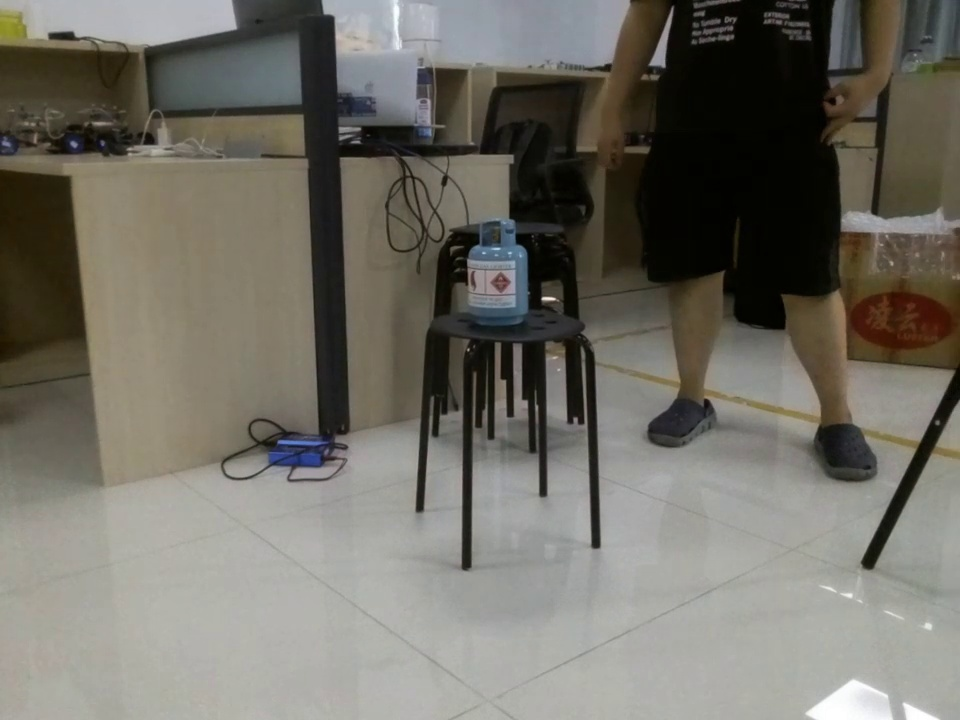gas tank: (463, 213, 535, 330)
